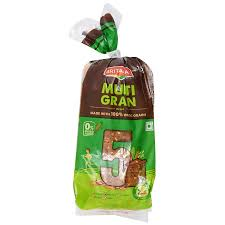bread: (57, 21, 158, 216)
